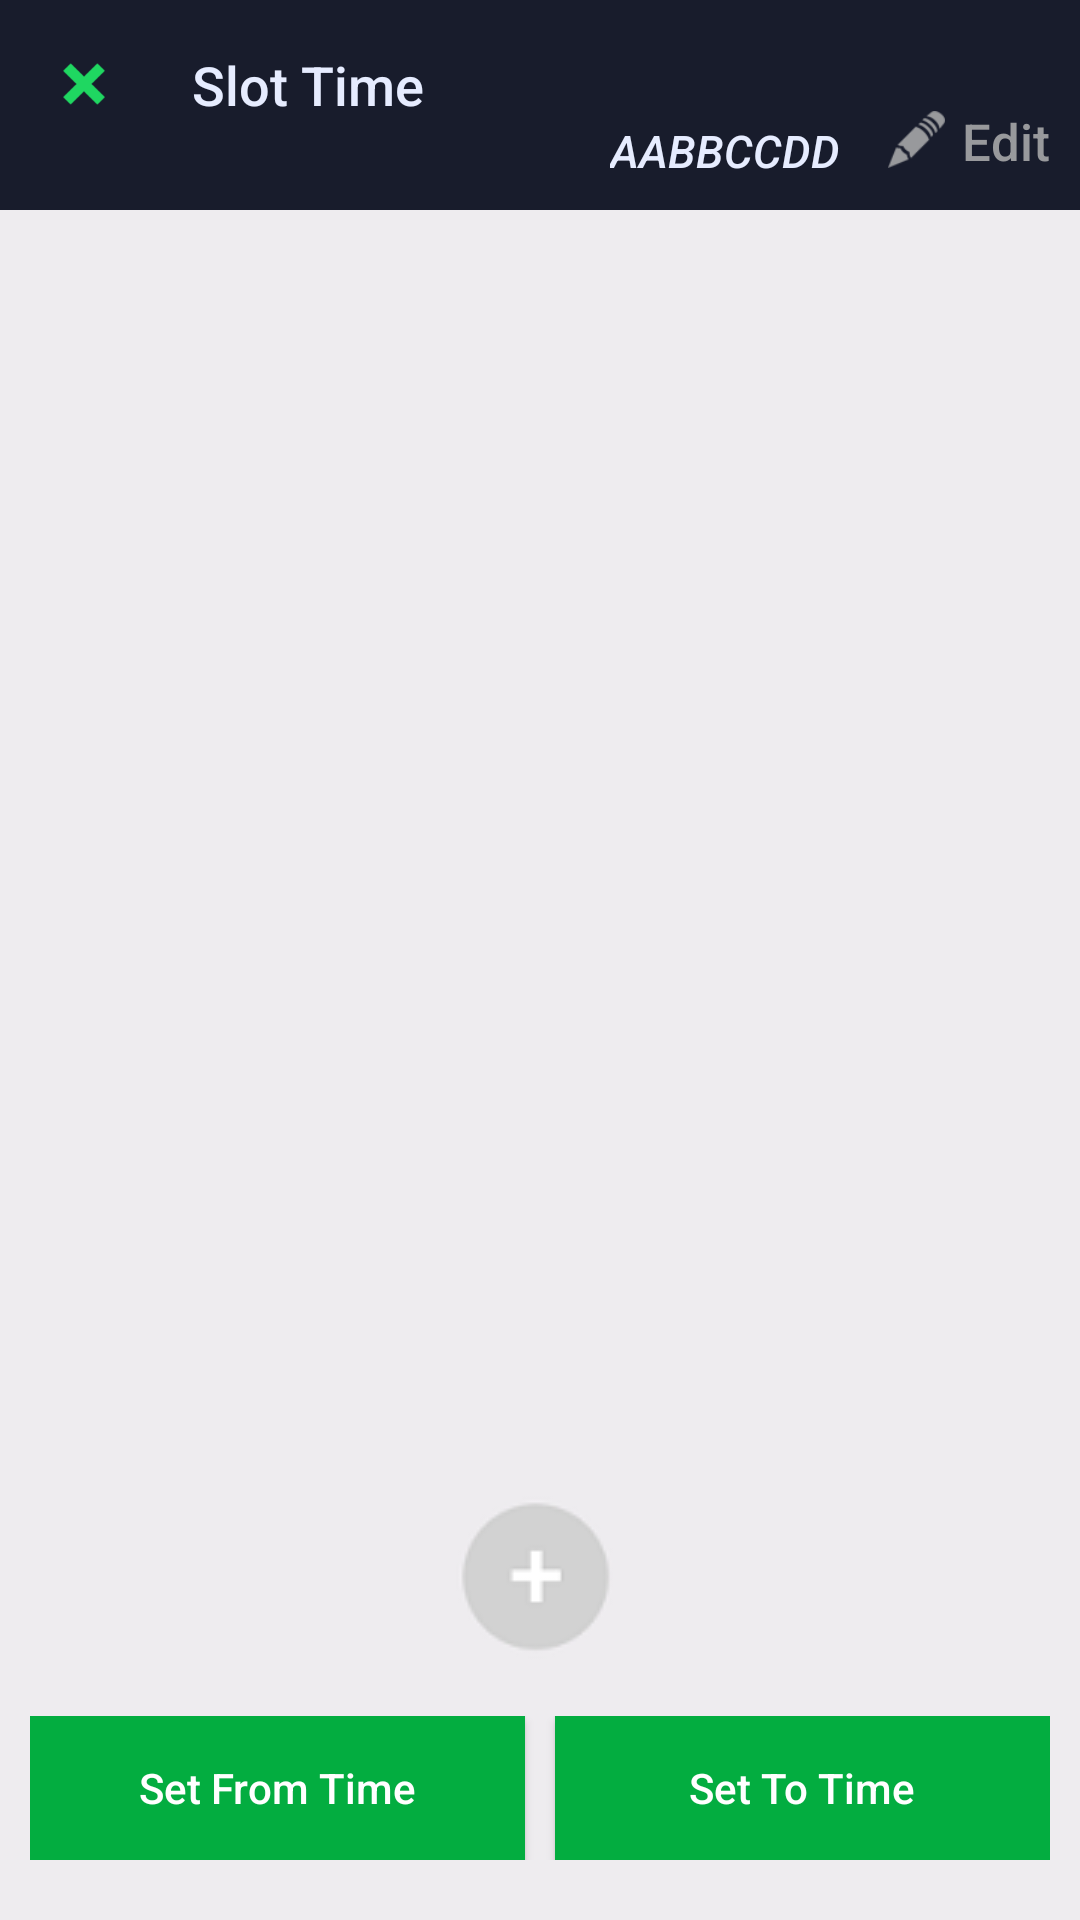

Icon click points for this 1080 x 1920 phone screenshot, format (x,y):
plusgrey: (536,1577)
